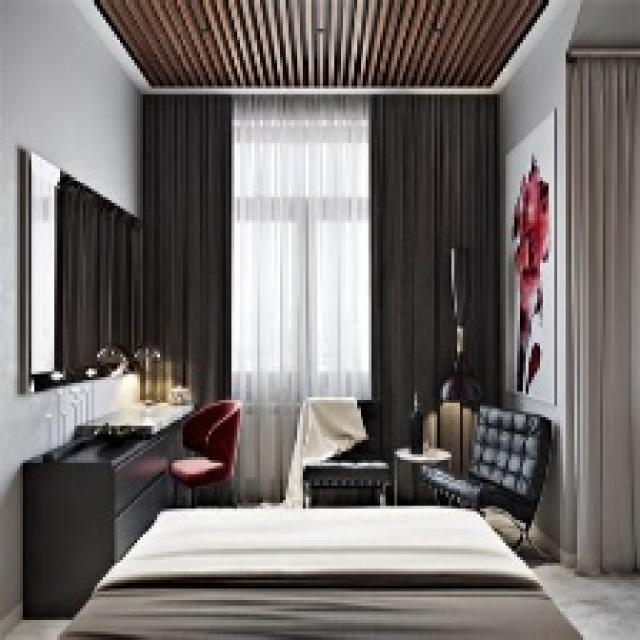Bed: (51, 503, 588, 637)
